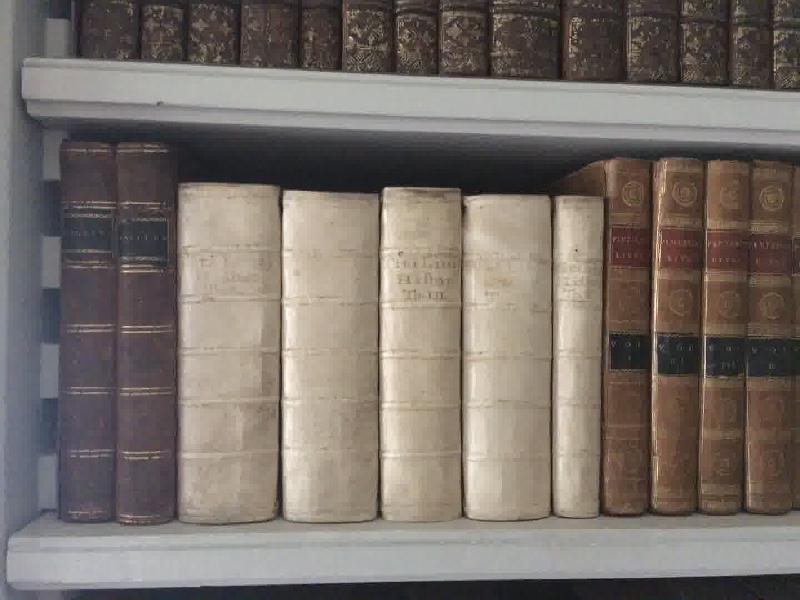Kk4-1_2: (51, 133, 179, 529)
Kk4-3_7: (173, 175, 617, 534)
Kk4-8_13: (600, 152, 800, 529)
